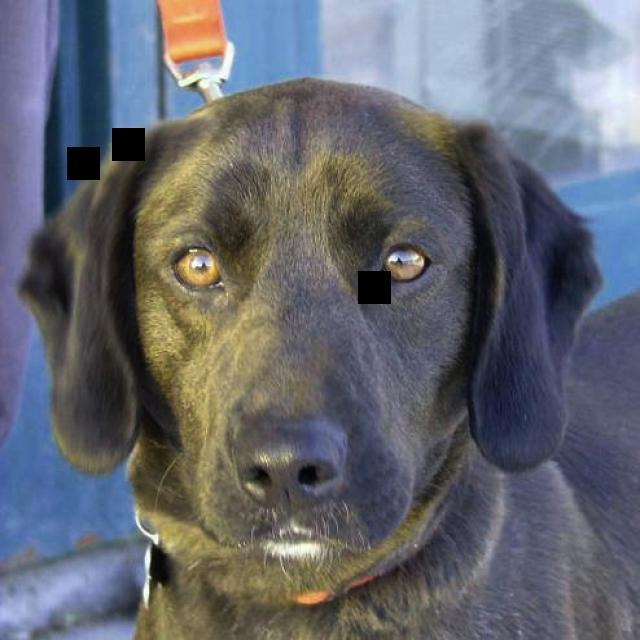adult_dog: (21, 74, 638, 640)
